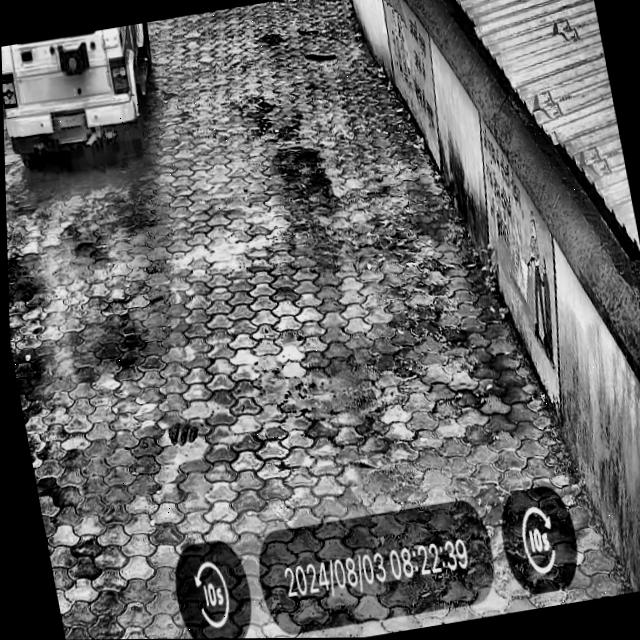light_vehicle: (1, 23, 165, 151)
